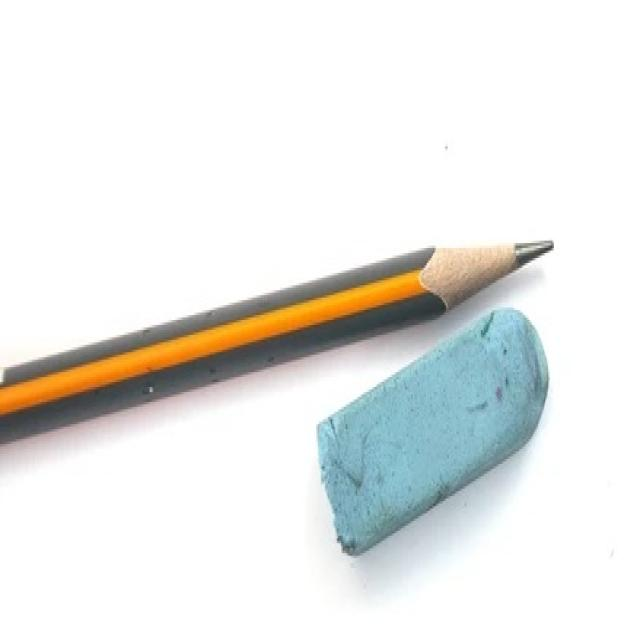pencil: (0, 212, 583, 470)
